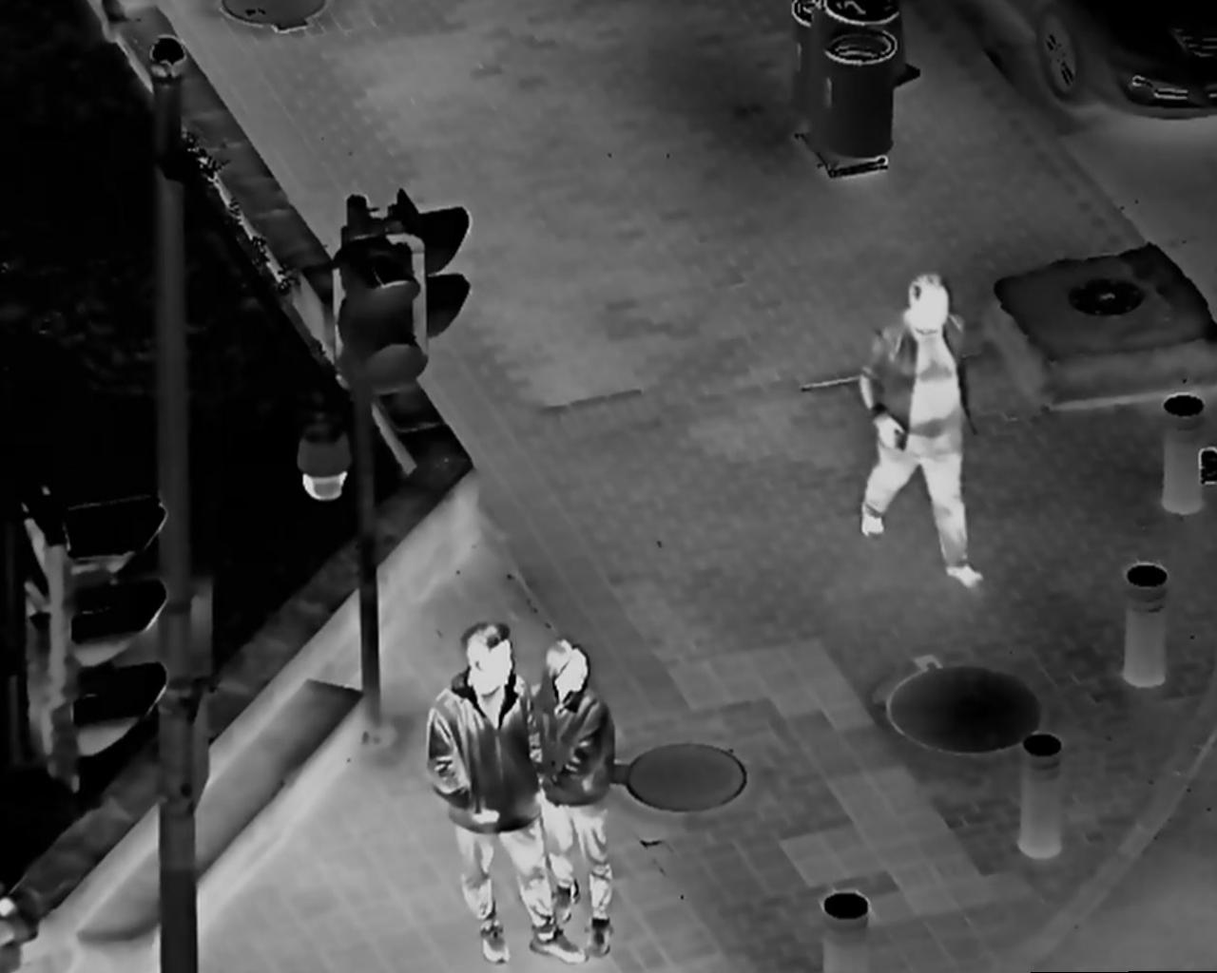person: (425, 618, 590, 965), (853, 260, 994, 596), (520, 638, 632, 962)
